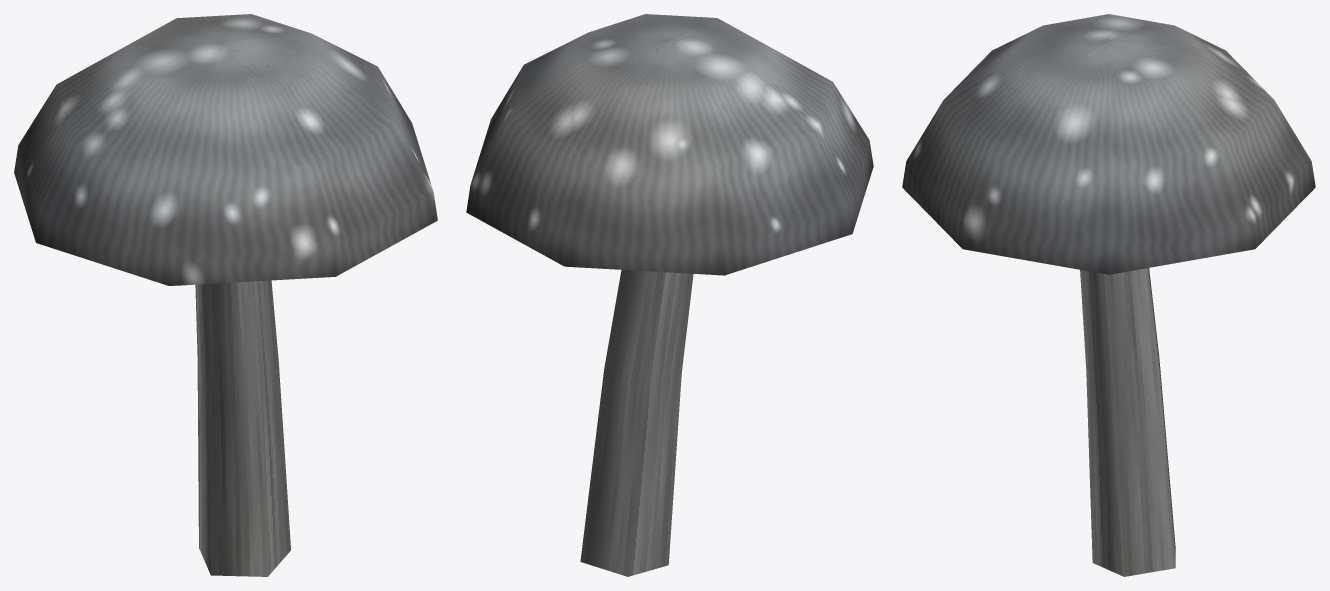
File: toadstool_l1.gltf
3 renders of one model, left to right at view 1: azimuth 30°, elevation 25°; view 2: azimuth 150°, elevation 25°; view 3: azimuth 270°, elevation 25°, orthographic. The views are drawn at different scales.
Parts seen in each view (by area): view 1: toadstool_l1; view 2: toadstool_l1; view 3: toadstool_l1.
Part boxes in pixels (box(x1,y1,x2,y2)): toadstool_l1: box(14, 14, 437, 576); toadstool_l1: box(466, 14, 873, 576); toadstool_l1: box(902, 14, 1315, 576).
Size of the model in its own units: 0.9 by 1.22 by 0.9.
Materials: 2 (2 with a texture image).
